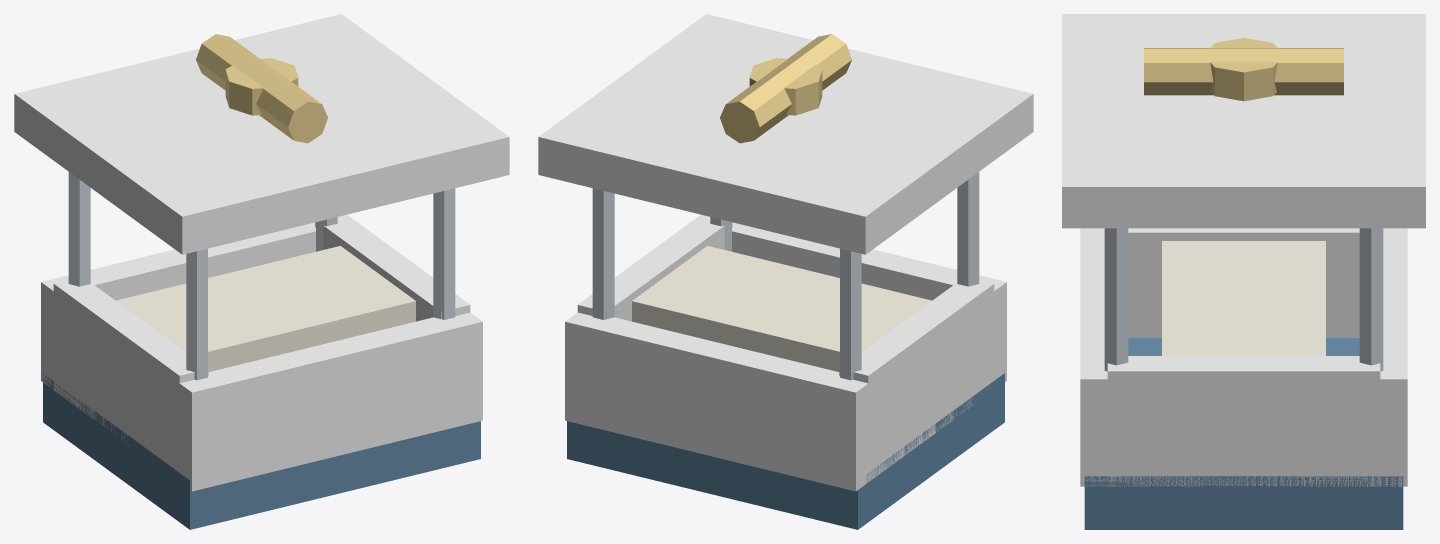
File: noria_cabina.glb
The picture shows the model from 3 angles, left to right: view 1: azimuth 30°, elevation 25°; view 2: azimuth 150°, elevation 25°; view 3: azimuth 270°, elevation 25°; orthographic projection. The views are drawn at different scales.
Visible parts, largest first — view 1: noria_cabina; view 2: noria_cabina; view 3: noria_cabina.
Boxes of the visible parts, bbox=[...] form: noria_cabina: bbox=[14, 14, 509, 529]; noria_cabina: bbox=[538, 14, 1033, 529]; noria_cabina: bbox=[1062, 14, 1425, 529].
Bounding box in the file's own units: 0.9 × 0.98 × 0.8.
